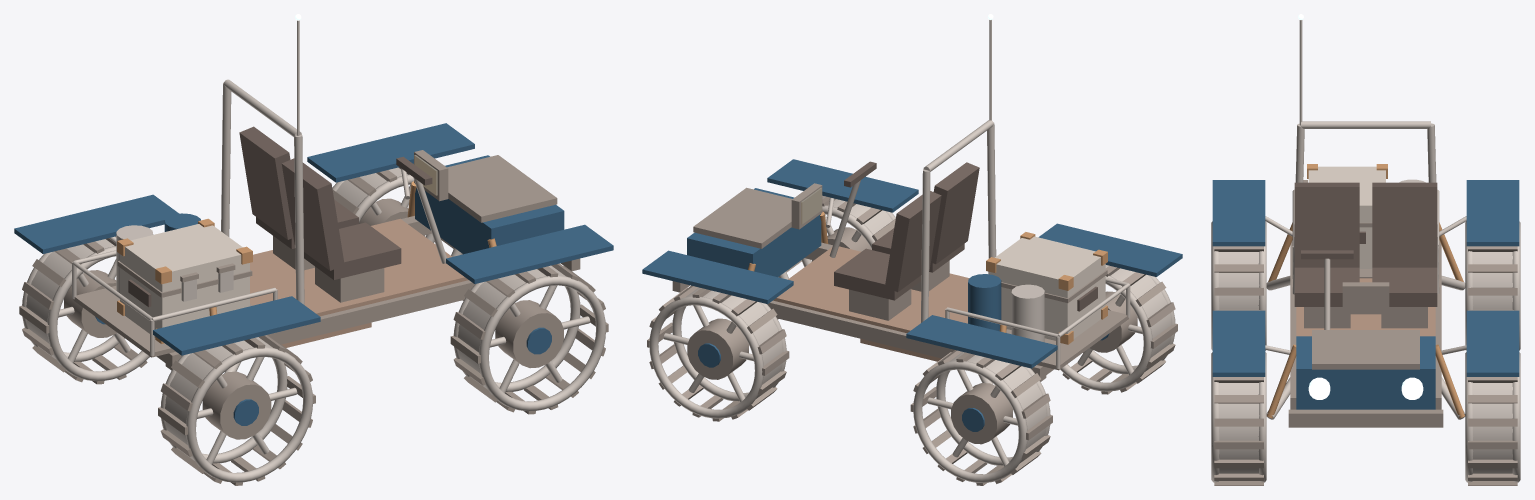
The model's file is V01_open_rover_blue.glb.
3 views of the same model, side by side, from view 1: azimuth 30°, elevation 25°; view 2: azimuth 150°, elevation 25°; view 3: azimuth 270°, elevation 25° (orthographic). The views are drawn at different scales.
Parts seen in each view (by area): view 1: fender (×4), tire_edge (×7), shell, hub (×4), seat_back (×2), floor_pan, tire (×4), nose_lid, nose_box, roll_bar (×3), frame_rail, seat_base (×2) (+6 smaller); view 2: fender (×4), tire_edge (×6), shell, seat_back (×2), floor_pan, hub (×3), tire (×4), nose_box, nose_lid, canister (×2), roll_bar (×3), frame_rail (+5 smaller); view 3: fender (×4), seat_back (×2), tire (×4), tread (×14), nose_box, tire_edge (×8), nose_lid, seat_base (×2), bumper, shell, roll_bar (×3), damper (×4) (+10 smaller).
Part boxes in pixels (x1,y1,x2,y2): fender (×4): [14, 123, 613, 355]; tire_edge (×7): [22, 174, 605, 482]; shell: [120, 224, 249, 337]; hub (×4): [64, 198, 563, 439]; seat_back (×2): [239, 126, 344, 270]; floor_pan: [250, 218, 468, 316]; tire (×4): [26, 167, 565, 460]; nose_lid: [447, 155, 557, 222]; nose_box: [415, 155, 564, 254]; roll_bar (×3): [221, 79, 304, 304]; frame_rail: [165, 280, 474, 370]; seat_base (×2): [256, 199, 401, 279]; fender (×4): [642, 159, 1182, 368]; tire_edge (×6): [649, 275, 1175, 482]; shell: [988, 236, 1105, 340]; seat_back (×2): [885, 162, 979, 292]; floor_pan: [773, 246, 969, 332]; hub (×3): [687, 291, 1137, 444]; tire (×4): [685, 196, 1171, 462]; nose_box: [687, 188, 821, 277]; nose_lid: [693, 187, 792, 248]; canister (×2): [968, 274, 1044, 342]; roll_bar (×3): [921, 120, 996, 322]; frame_rail: [767, 300, 1046, 381]; fender (×4): [1212, 180, 1519, 376]; seat_back (×2): [1294, 182, 1437, 267]; tire (×4): [1219, 252, 1512, 473]; tread (×14): [1214, 264, 1517, 480]; nose_box: [1296, 336, 1435, 409]; tire_edge (×8): [1211, 221, 1520, 482]; nose_lid: [1312, 330, 1419, 369]; seat_base (×2): [1294, 267, 1437, 306]; bumper: [1288, 409, 1443, 427]; shell: [1308, 166, 1385, 268]; roll_bar (×3): [1292, 121, 1439, 294]; damper (×4): [1267, 222, 1464, 418].
Bounding box in the file's own units: 3 × 2.68 × 2.
